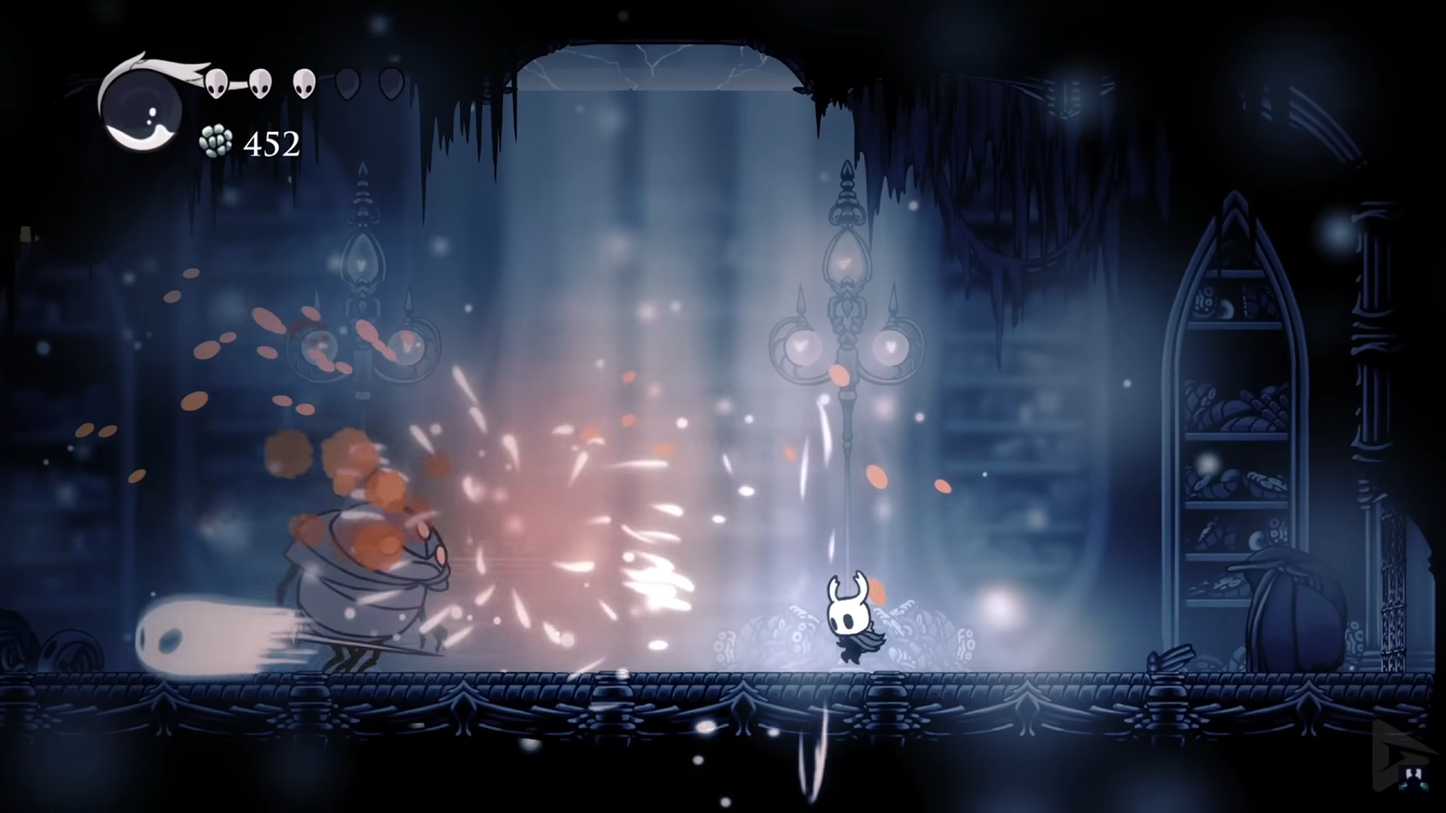HK: (819, 572, 884, 667)
